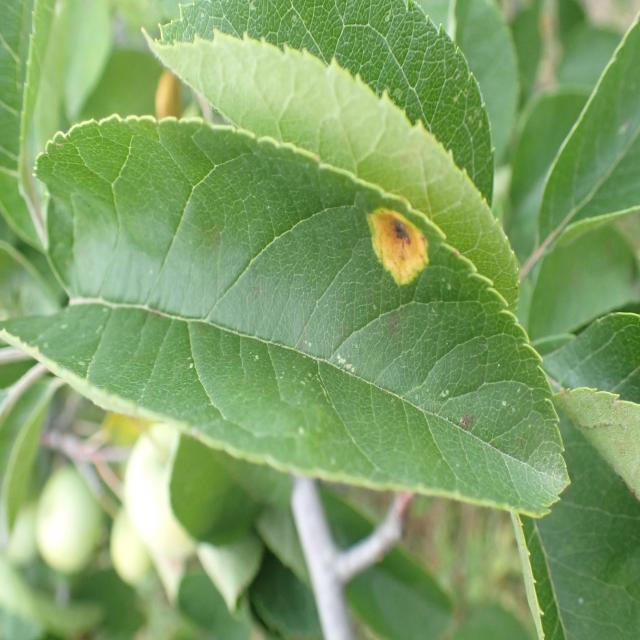rust: (1, 114, 570, 522)
